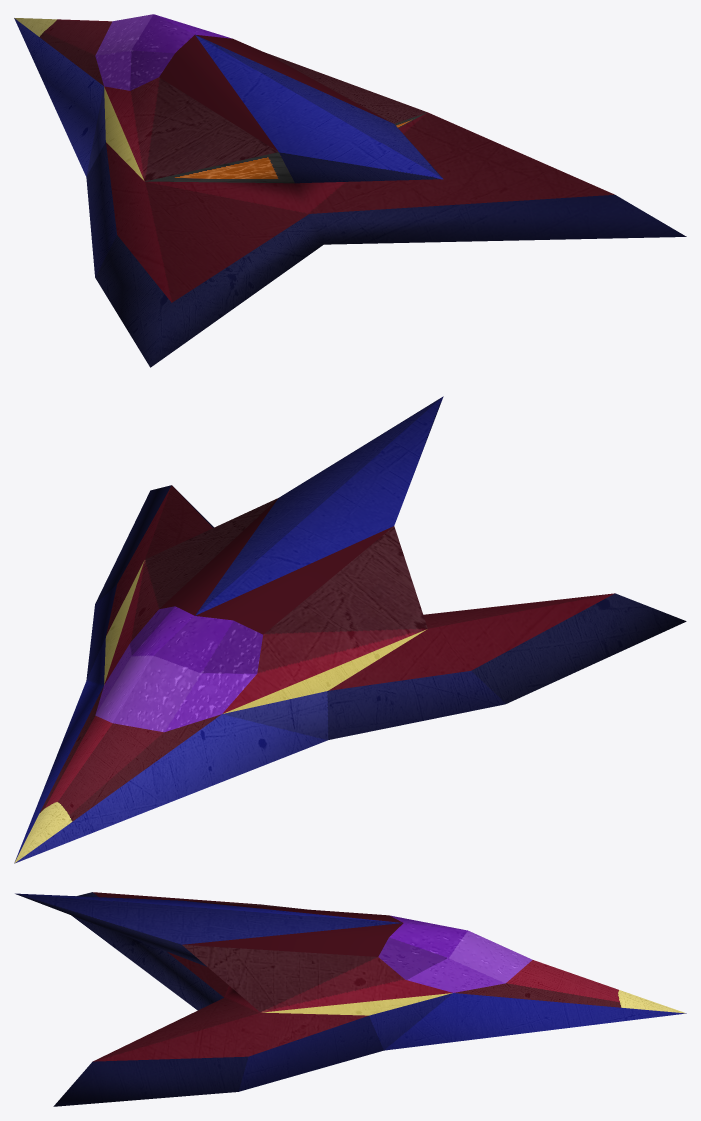
Rendered from ship2.obj.
The picture shows the model from 3 angles, top to bottom: view 1: azimuth 30°, elevation 25°; view 2: azimuth 150°, elevation 25°; view 3: azimuth 270°, elevation 25°; orthographic projection. The views are drawn at different scales.
Parts seen in each view (by area): view 1: tetrahedron1; view 2: tetrahedron1; view 3: tetrahedron1.
Part boxes in pixels (x1,y1,x2,y2): tetrahedron1: (14,14,686,367); tetrahedron1: (14,396,686,863); tetrahedron1: (15,892,686,1106).
Size of the model in its own units: 4.34 by 1.18 by 6.02.
